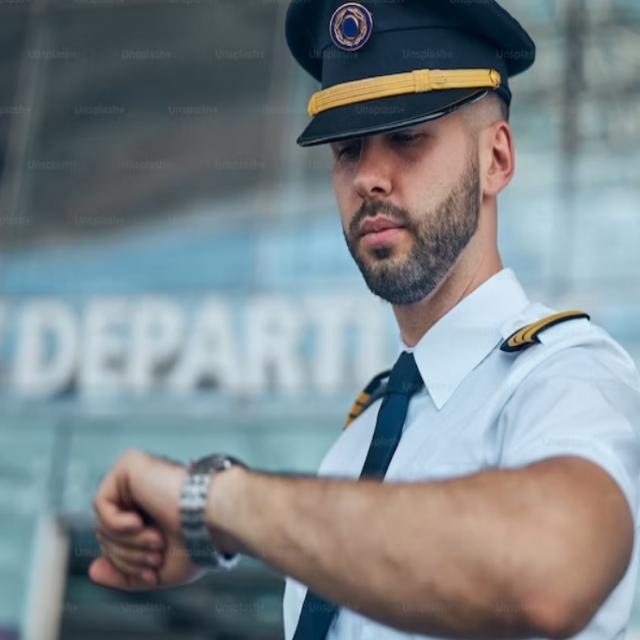Watch: (181, 448, 245, 575)
